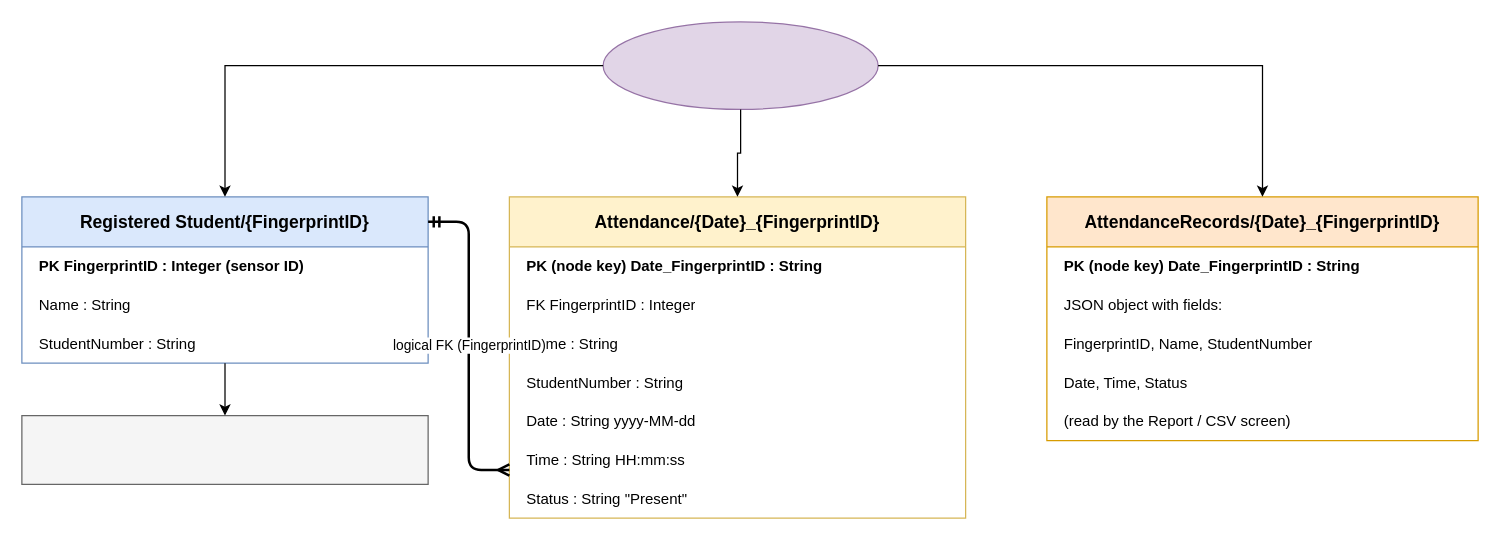
Image size: 1500x540. Some labels were removed from this diagram. Here are the shapes that lost their labels. From the top down, the centre of each, then its label:
At [740,65]: "Firebase root".
At [224,449]: "StudentCount : Integer (top-level counter)".
